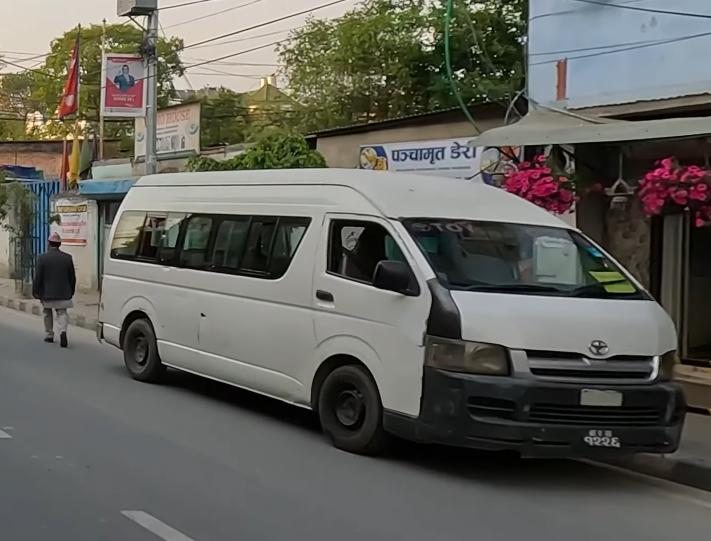micro_bus: (95, 165, 690, 475)
